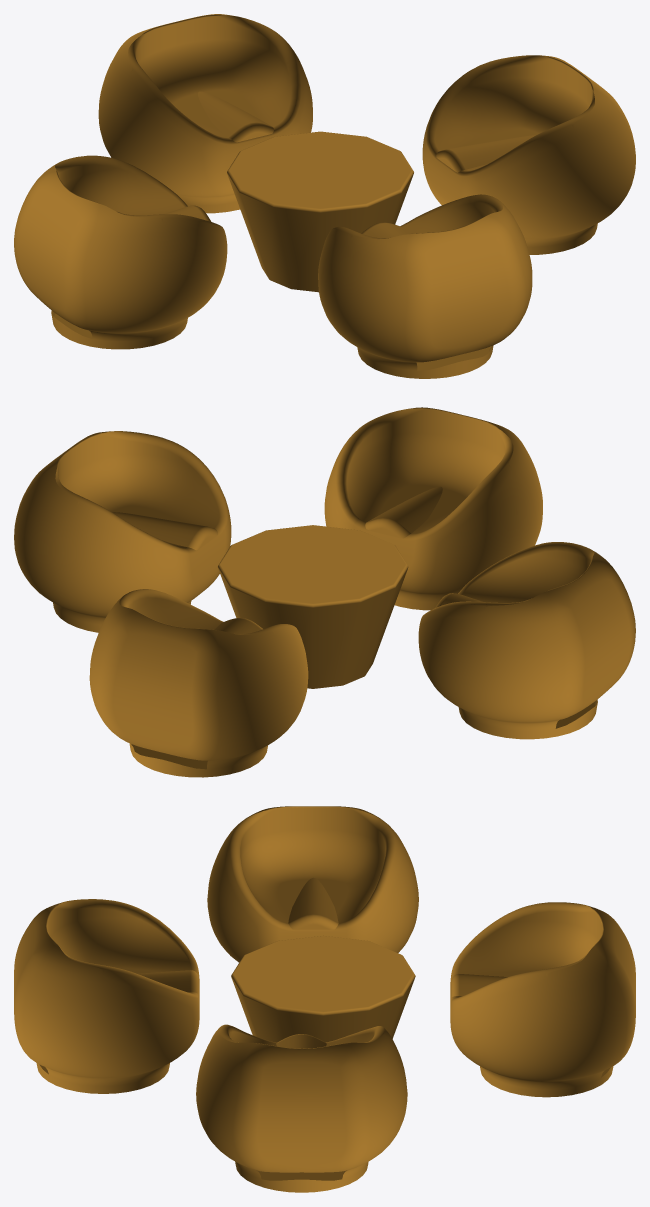
File: 15306 - Conjunto Living Ovo Rotomoldeo.FBX
3 renders of one model, top to bottom at view 1: azimuth 30°, elevation 25°; view 2: azimuth 150°, elevation 25°; view 3: azimuth 270°, elevation 25°, orthographic. The views are drawn at different scales.
Bounding box in the file's own units: 99.75 × 24.51 × 97.19.
